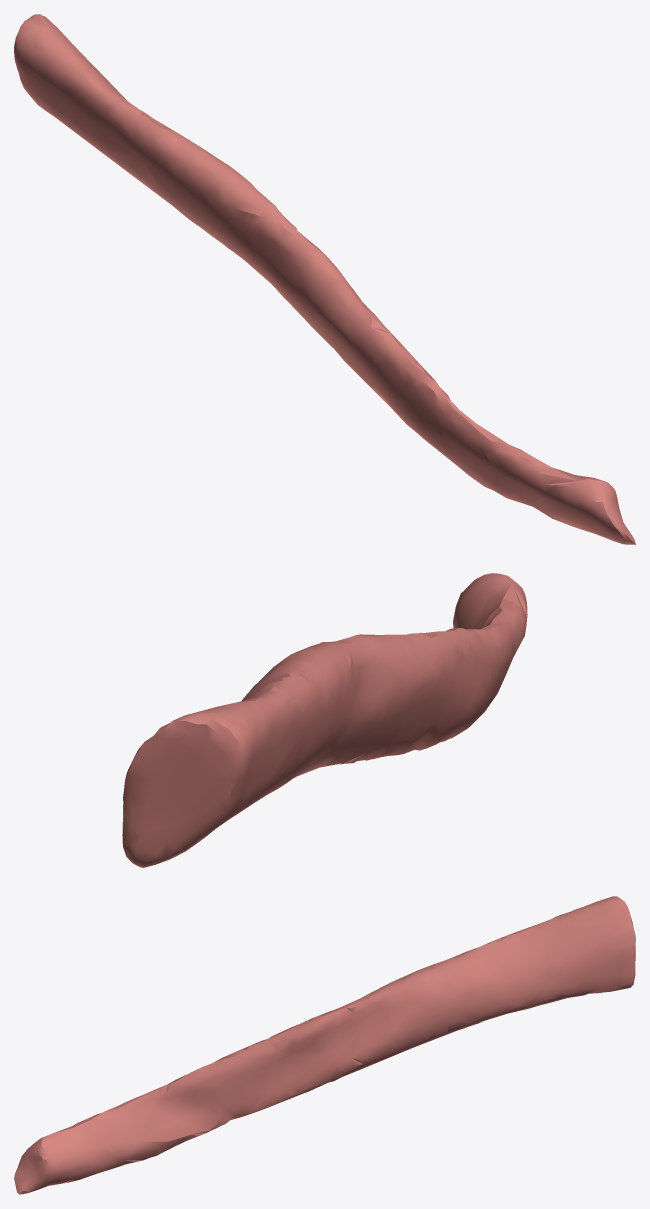
The model's file is fma47217_mm1727.glb.
3 views of the same model, one above another, from view 1: azimuth 30°, elevation 25°; view 2: azimuth 150°, elevation 25°; view 3: azimuth 270°, elevation 25° (orthographic). The views are drawn at different scales.
Parts seen in each view (by area): view 1: FMA47217_MM1727; view 2: FMA47217_MM1727; view 3: FMA47217_MM1727.
Boxes of the visible parts, box(x1,y1,x2,y2) form: FMA47217_MM1727: box(14, 14, 635, 544); FMA47217_MM1727: box(122, 573, 527, 867); FMA47217_MM1727: box(14, 896, 635, 1194).
Bounding box in the file's own units: 0.0185 × 0.022 × 0.0566.
